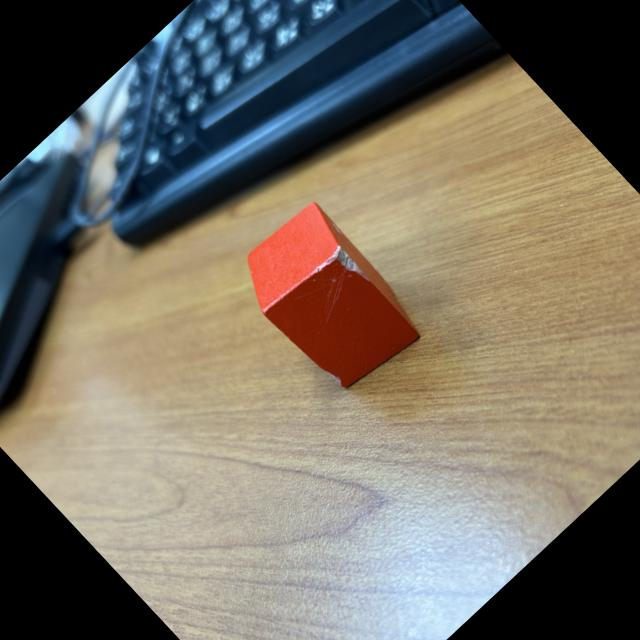broken: (226, 196, 432, 406)
